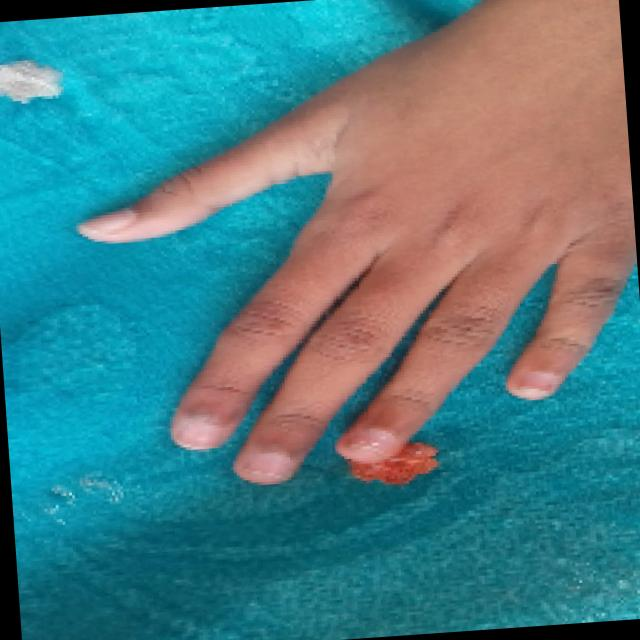Nail: (243, 452, 295, 484), (171, 416, 216, 449), (79, 210, 136, 234), (357, 428, 396, 455), (522, 372, 557, 399)
